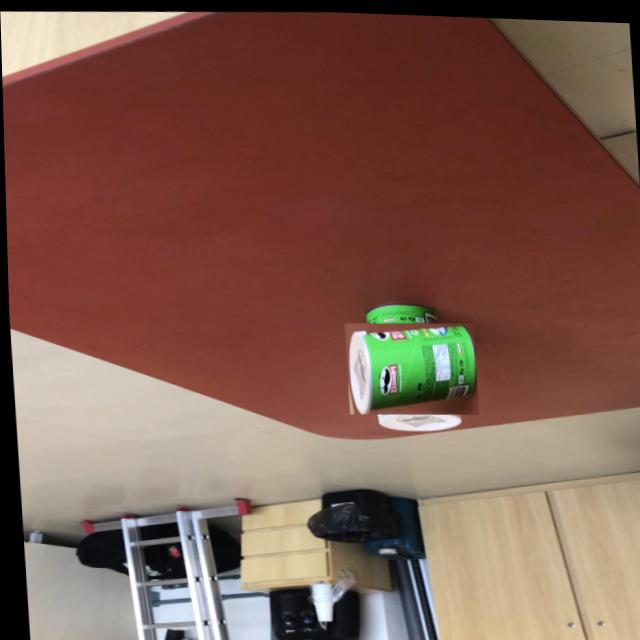a pringles: (350, 306, 468, 424)
